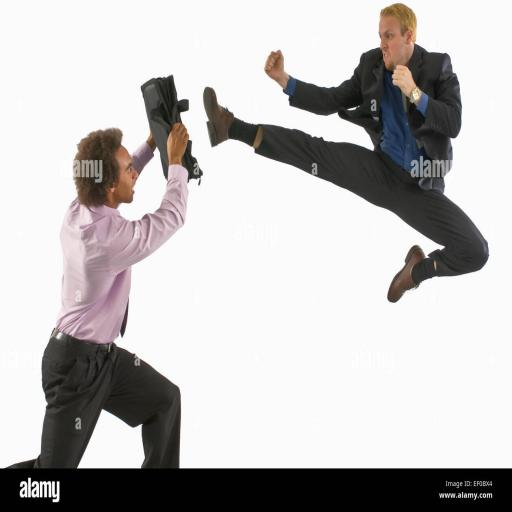fight: (39, 0, 500, 416)
